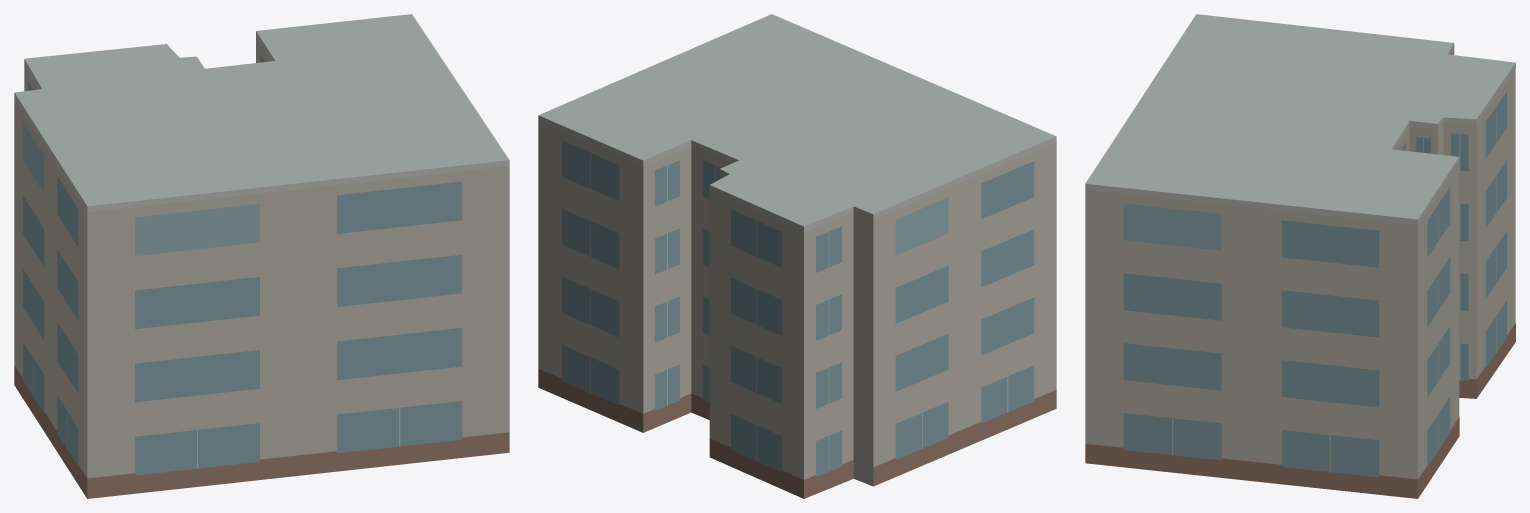
File: survey-upis-32689540.glb
The picture shows the model from 3 angles, left to right: view 1: azimuth 30°, elevation 25°; view 2: azimuth 150°, elevation 25°; view 3: azimuth 270°, elevation 25°; orthographic projection. The views are drawn at different scales.
Parts seen in each view (by area): view 1: survey-upis-32689540.tmp; view 2: survey-upis-32689540.tmp; view 3: survey-upis-32689540.tmp.
Boxes of the visible parts, bbox=[...] form: survey-upis-32689540.tmp: bbox=[14, 14, 509, 498]; survey-upis-32689540.tmp: bbox=[538, 14, 1056, 498]; survey-upis-32689540.tmp: bbox=[1085, 14, 1515, 498].
Bounding box in the file's own units: 19.24 × 12.2 × 17.04.
